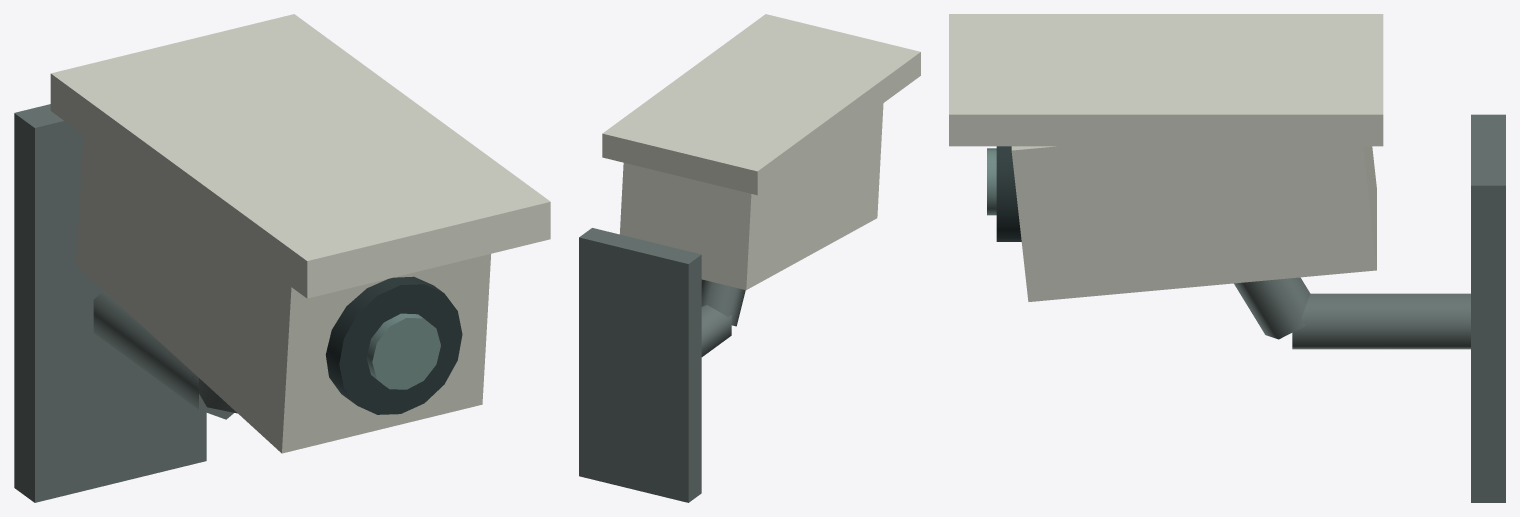
3 views of the same model, side by side, from view 1: azimuth 30°, elevation 25°; view 2: azimuth 150°, elevation 25°; view 3: azimuth 270°, elevation 25° (orthographic). The views are drawn at different scales.
Visible parts, largest first — view 1: part-5, part-4, part-1, part-6, part-2, part-7; view 2: part-5, part-1, part-4, part-3, part-2; view 3: part-5, part-4, part-1, part-2, part-3, part-6, part-7.
Part boxes in pixels (left/top/right/bottom): part-5: left=50, top=14, right=550, bottom=298; part-4: left=76, top=135, right=490, bottom=453; part-1: left=14, top=104, right=206, bottom=502; part-6: left=325, top=276, right=462, bottom=414; part-2: left=93, top=291, right=233, bottom=419; part-7: left=366, top=313, right=440, bottom=389; part-5: left=602, top=14, right=920, bottom=195; part-1: left=579, top=228, right=701, bottom=502; part-4: left=619, top=103, right=883, bottom=290; part-3: left=701, top=279, right=745, bottom=326; part-2: left=701, top=305, right=731, bottom=356; part-5: left=949, top=14, right=1383, bottom=146; part-4: left=1011, top=146, right=1376, bottom=301; part-1: left=1471, top=114, right=1505, bottom=502; part-2: left=1292, top=293, right=1470, bottom=349; part-3: left=1234, top=277, right=1310, bottom=339; part-6: left=996, top=146, right=1021, bottom=241; part-7: left=987, top=148, right=996, bottom=215.
Size of the model in its own units: 0.17 by 0.3175 by 0.3975.
